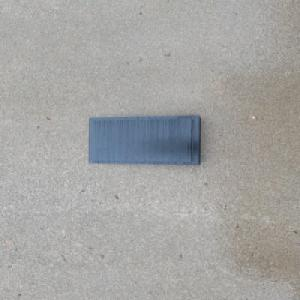PlasticPart: (87, 115, 203, 167)
